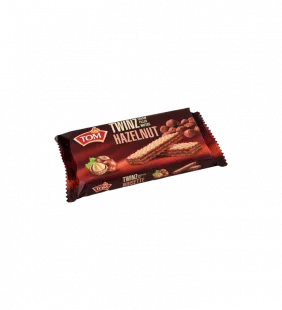TWINZ: (45, 101, 235, 211)
